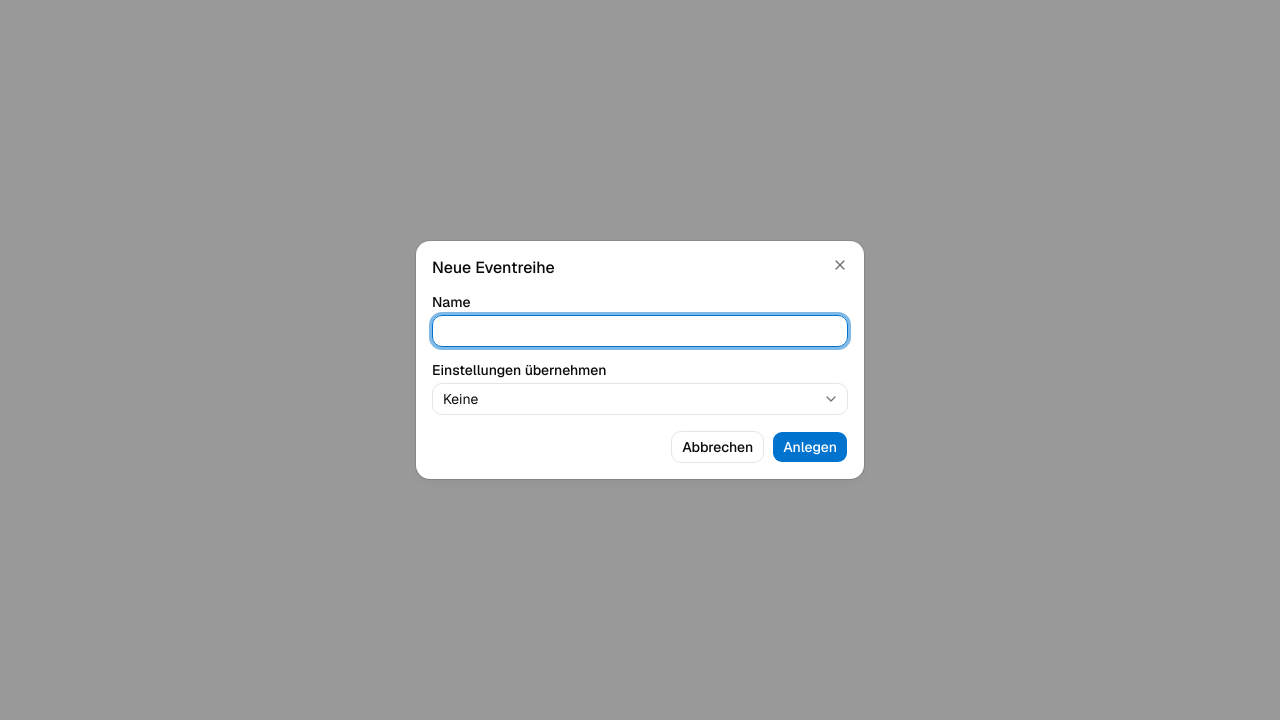
Test: EventSeriesFormDialog — creating › shows a rejection that is not about the name as a general alert
Step 1. Type "Winter 2026" into the field labelled "Name" → (640, 331), box [432,315,848,347]
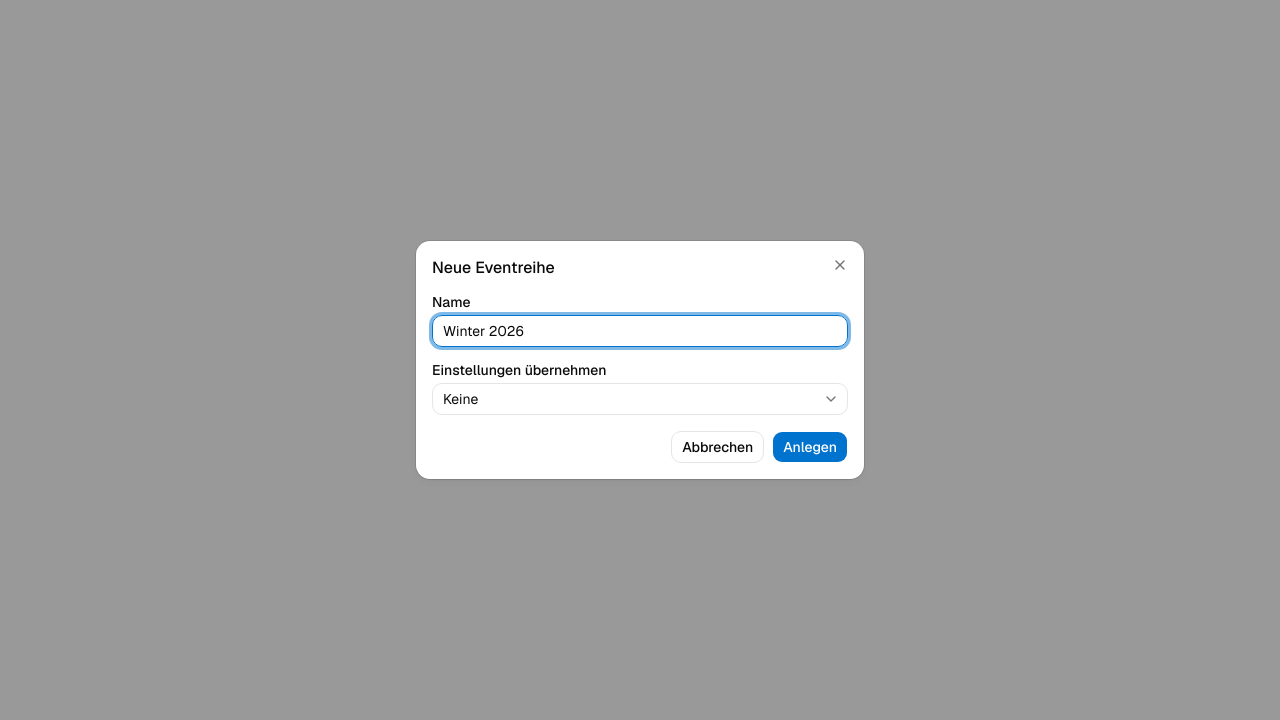
Step 2. Click the button "Anlegen" → (810, 447), box [772,431,848,463]
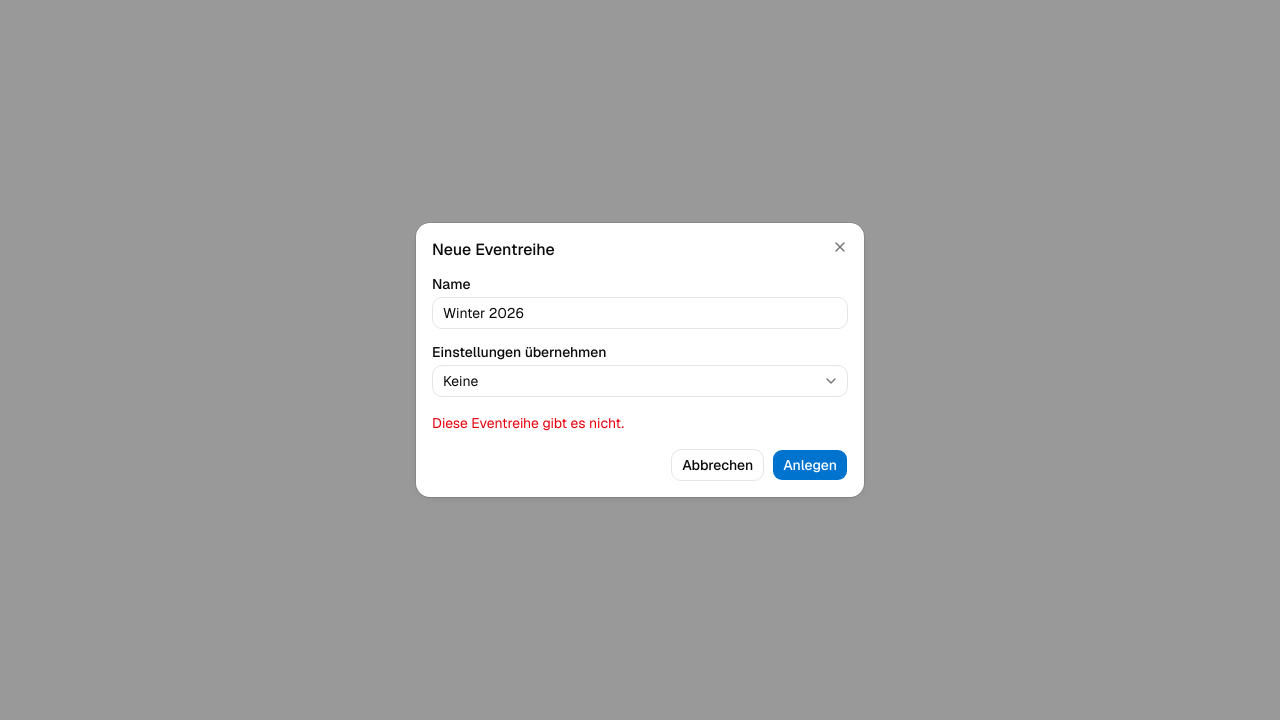
Result: the message reads "Diese Eventreihe gibt es nicht." at [432,414,624,432]
